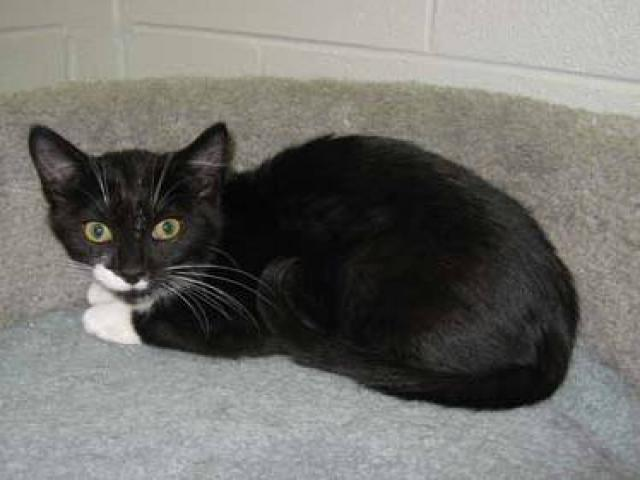cat: (22, 118, 592, 411)
